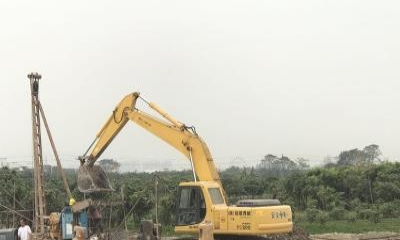excavator: (76, 89, 301, 240)
